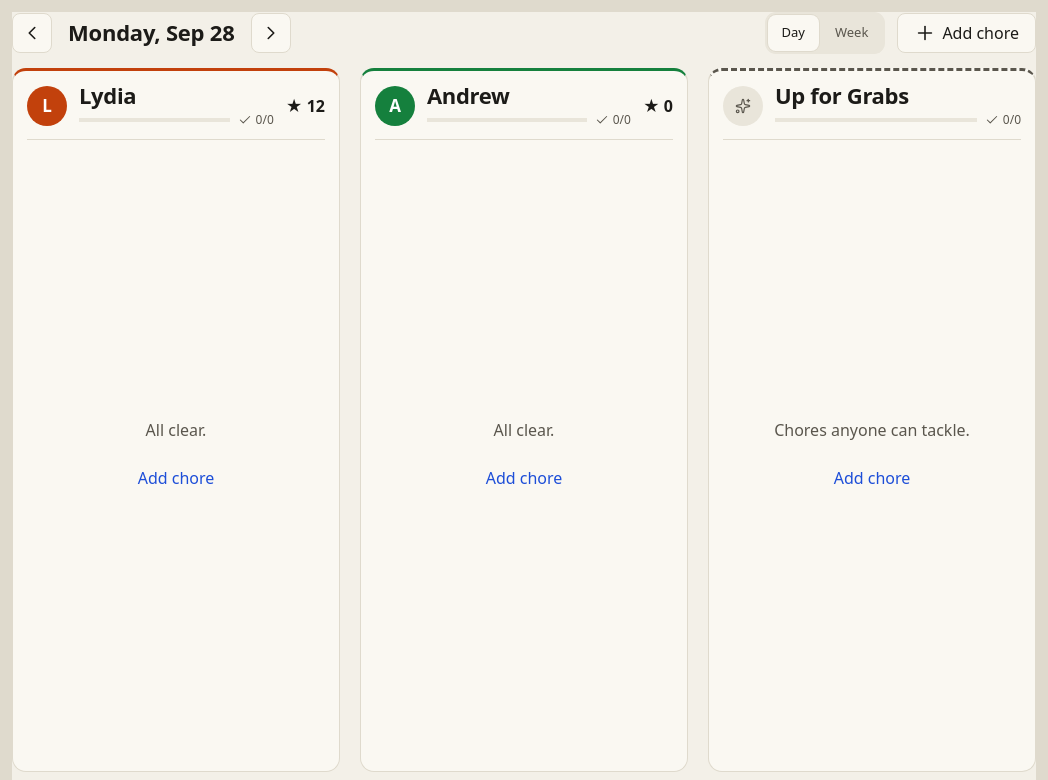
adding chores › offers "Add chore" from an empty column, pre-filled for that person
Click the button with aria-label "Add chore for Lydia" at [176, 478], box top-left (130, 458), bottom-right (222, 498)
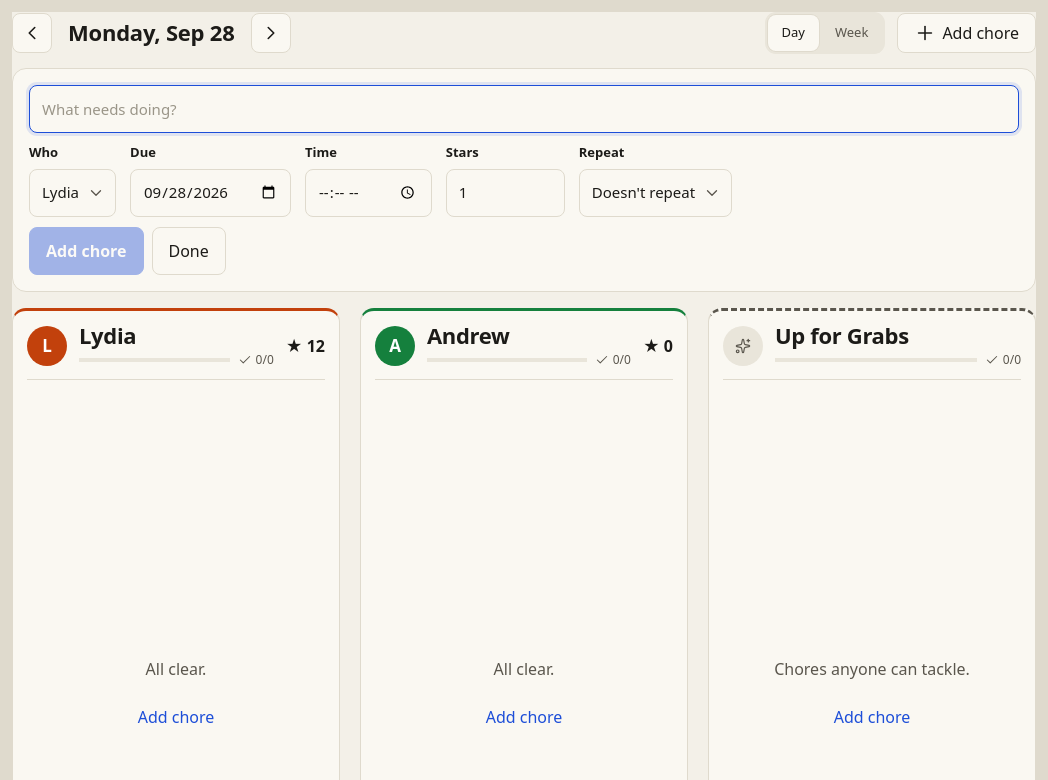
Now the dropdown named "Who" reads "Lydia", box top-left (29, 168), bottom-right (116, 216)
